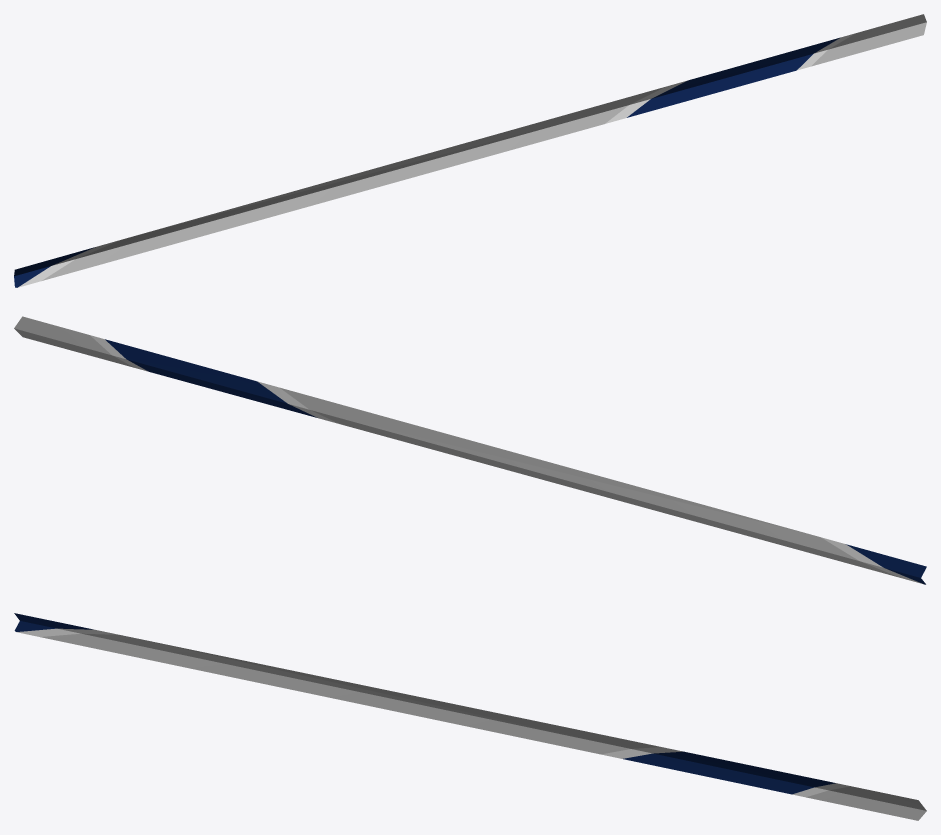
3 views of the same model, one above another, from view 1: azimuth 30°, elevation 25°; view 2: azimuth 150°, elevation 25°; view 3: azimuth 330°, elevation 25° (orthographic).
Parts seen in each view (by area): view 1: SubMesh0019; view 2: SubMesh0019; view 3: SubMesh0019.
Part boxes in pixels (<box>): SubMesh0019: <box>14,14,926,287</box>; SubMesh0019: <box>14,316,926,584</box>; SubMesh0019: <box>14,613,926,820</box>.
Size of the model in its own units: 1.26 by 0.0664 by 0.0116.
